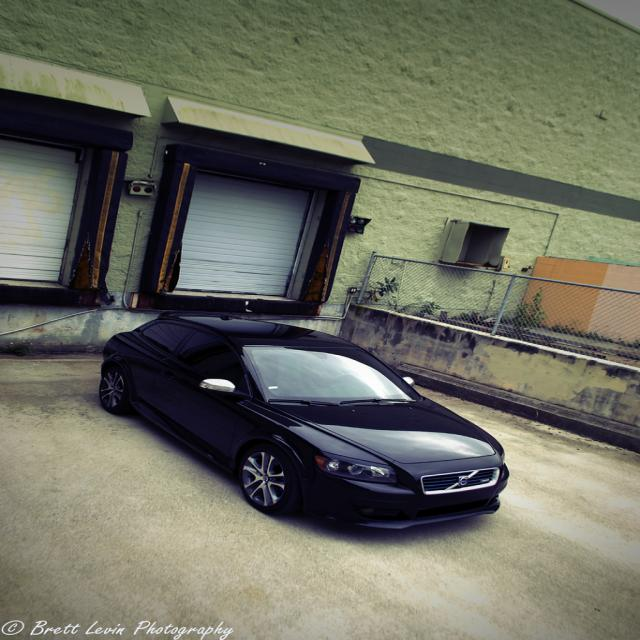car: (89, 313, 517, 528)
